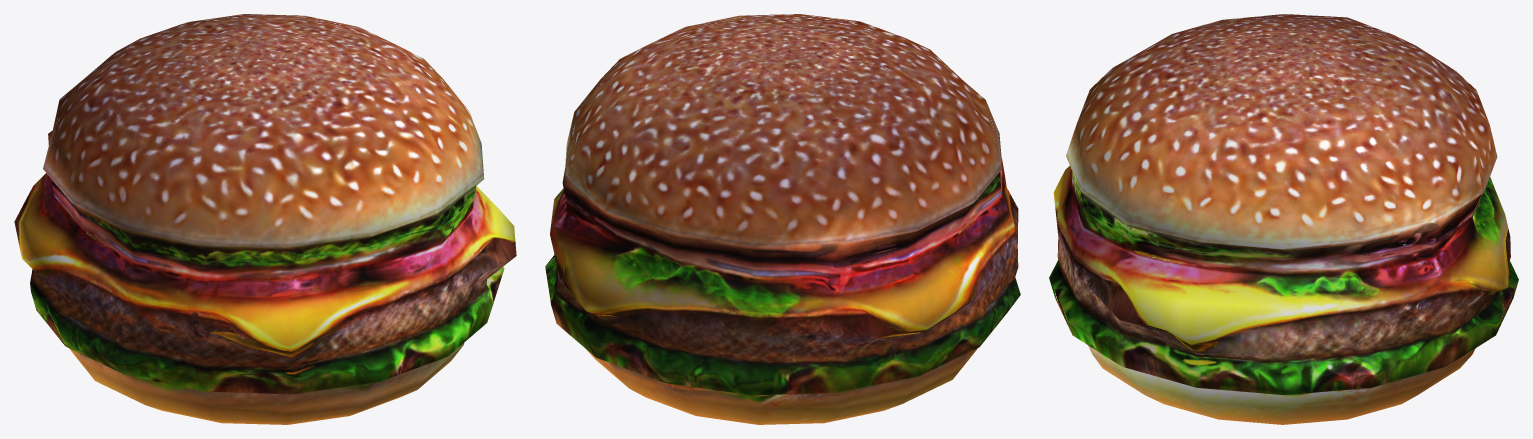
File: hamburger.fbx
The picture shows the model from 3 angles, left to right: view 1: azimuth 30°, elevation 25°; view 2: azimuth 150°, elevation 25°; view 3: azimuth 270°, elevation 25°; orthographic projection.
Parts seen in each view (by area): view 1: Cylinder; view 2: Cylinder; view 3: Cylinder.
Boxes of the visible parts, <box> form: Cylinder: <box>14,14,516,424</box>; Cylinder: <box>545,14,1020,424</box>; Cylinder: <box>1049,14,1518,424</box>.
Bounding box in the file's own units: 105 × 78.56 × 104.
1 material, 1 textured.
